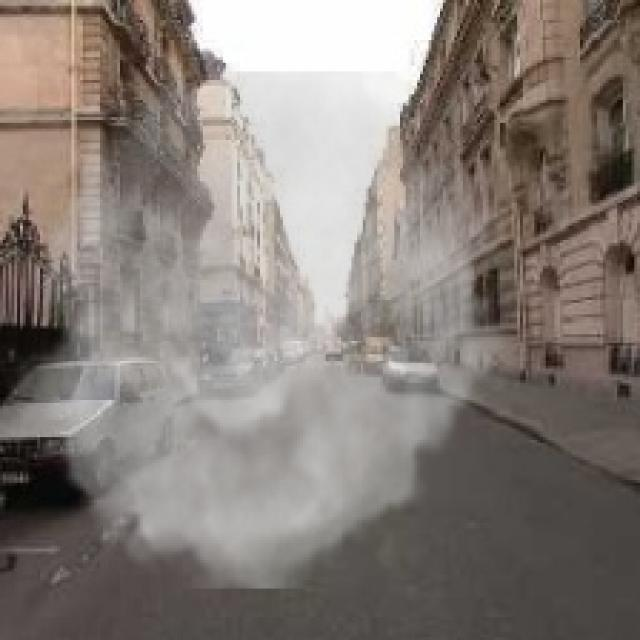smoke: (6, 71, 526, 588)
